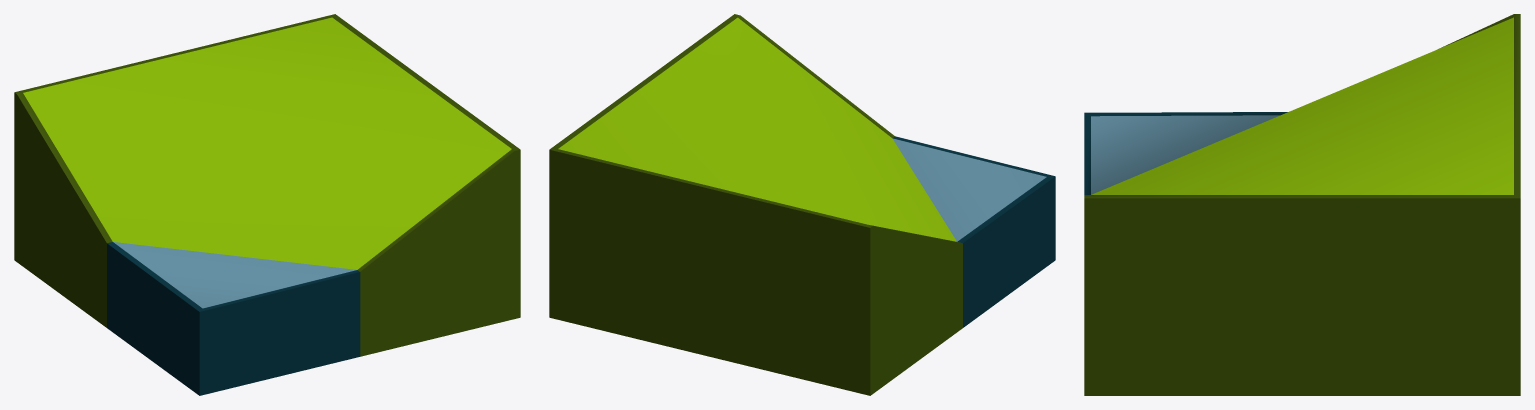
File: Agua_7.fbx
The picture shows the model from 3 angles, left to right: view 1: azimuth 30°, elevation 25°; view 2: azimuth 150°, elevation 25°; view 3: azimuth 270°, elevation 25°; orthographic projection. The views are drawn at different scales.
Parts seen in each view (by area): view 1: pCube4; view 2: pCube4; view 3: pCube4.
Boxes of the visible parts, box(x1,y1,x2,y2) form: pCube4: box(14, 14, 520, 395); pCube4: box(549, 14, 1055, 395); pCube4: box(1084, 14, 1520, 395).
Size of the model in its own units: 200 by 100 by 200.
